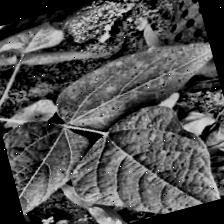ALS: (64, 91, 224, 224), (61, 34, 223, 133), (2, 113, 103, 223)
